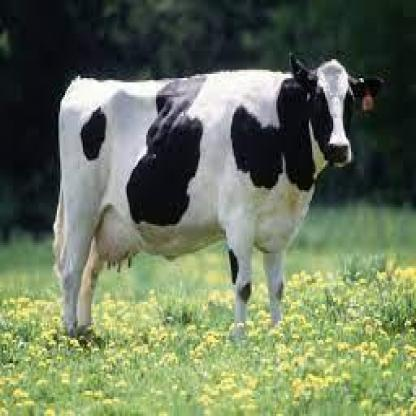cow: (54, 50, 386, 343)
